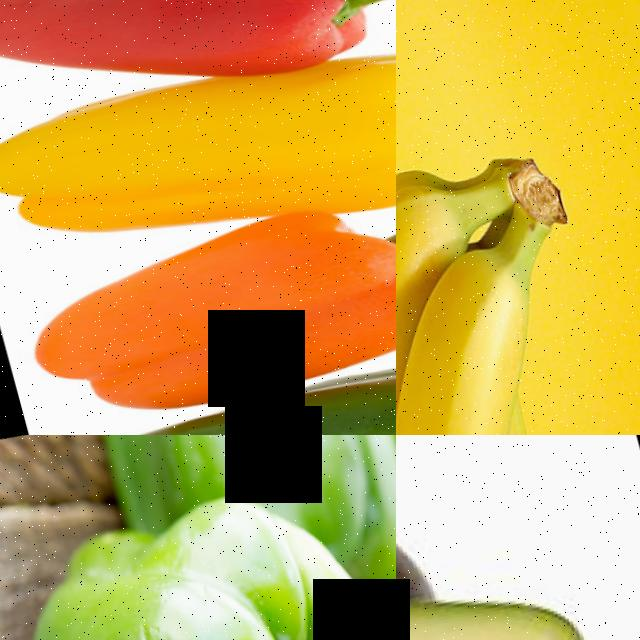avocado: (396, 519, 640, 640)
banana: (396, 79, 640, 435)
bell pepper: (0, 0, 396, 309), (0, 144, 396, 435), (0, 440, 396, 640), (0, 0, 396, 156), (43, 283, 396, 435)
